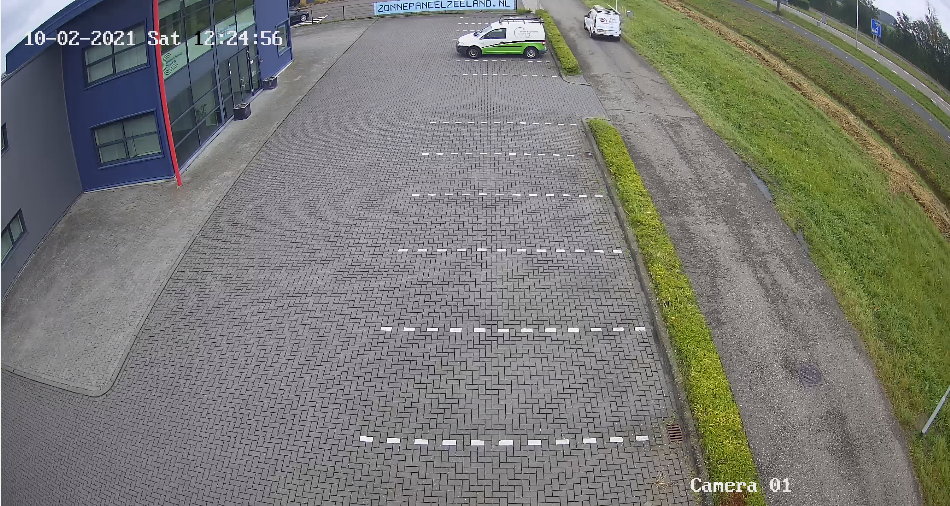werkbus: (454, 12, 554, 69), (585, 3, 622, 47)
